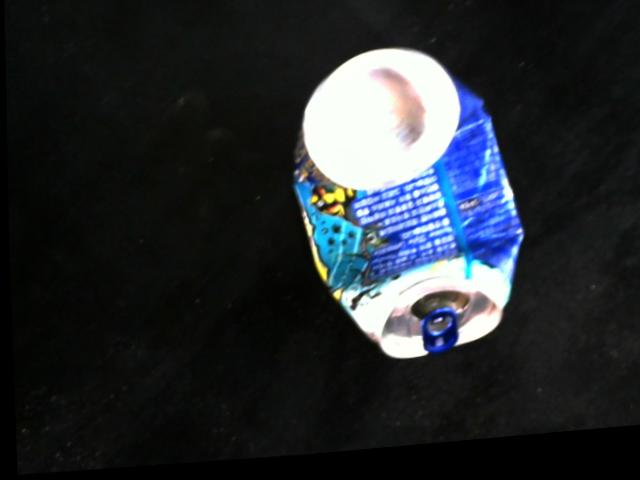can: (286, 53, 524, 370)
